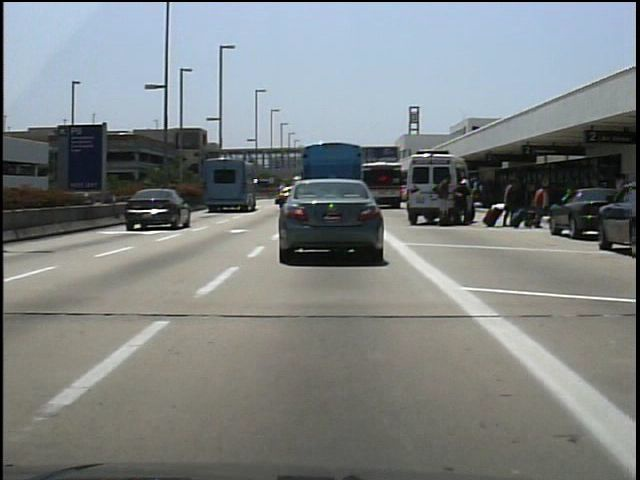person: (431, 170, 454, 227), (499, 176, 522, 231), (528, 178, 551, 232), (451, 175, 474, 228)
